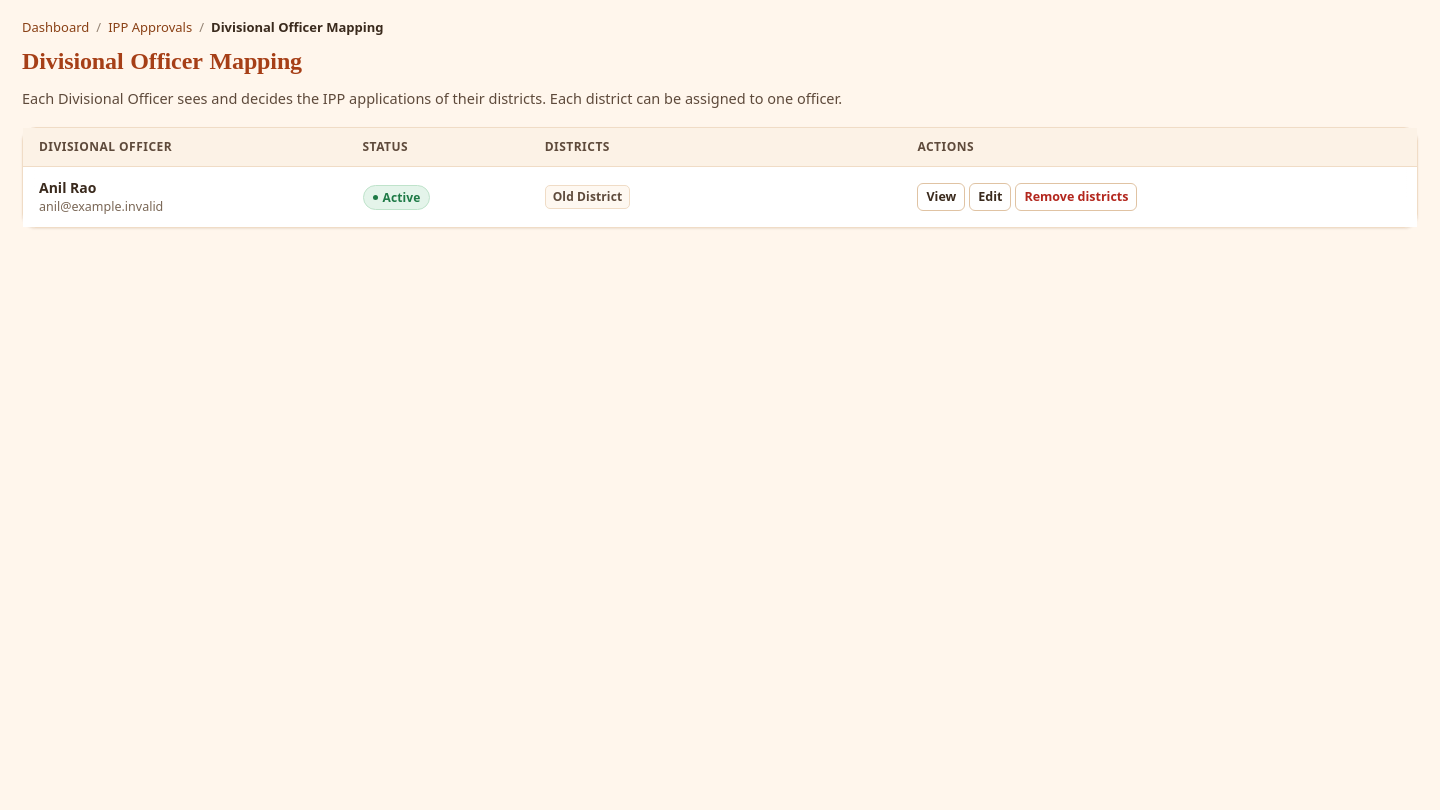
Scenario: Divisional Officer Mapping › shows a district of the officer that is no longer active, to take it away
Click the button named "Edit the districts of Anil Rao" at (990, 197), box [969, 183, 1012, 211]
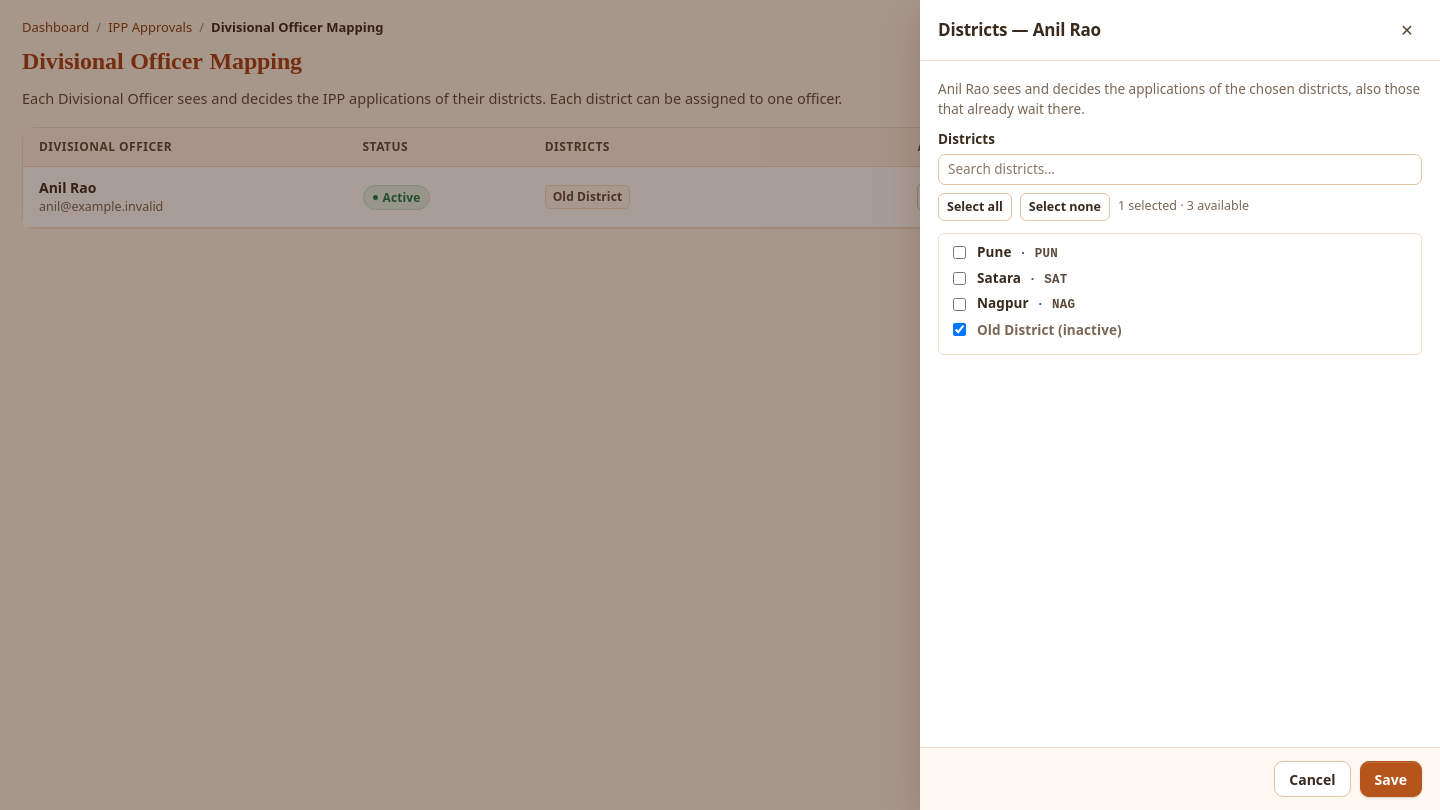
Result: the checkbox labelled "Old District (inactive)" is checked at [953, 323, 966, 336]
